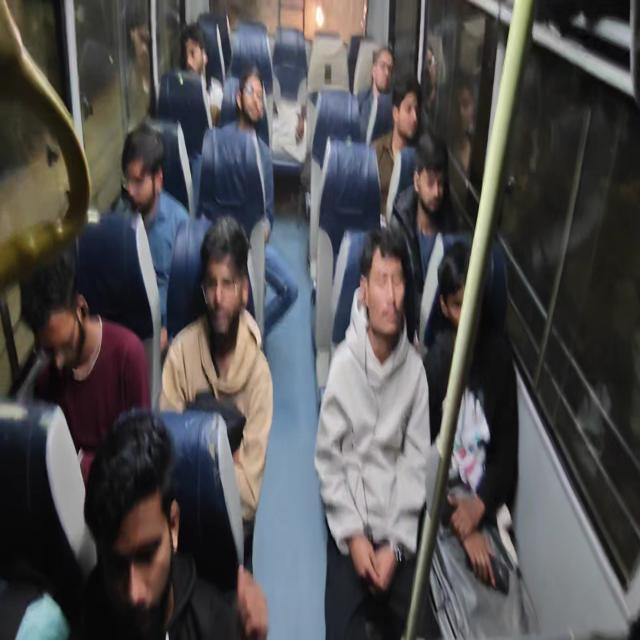person: (32, 416, 171, 640), (0, 234, 93, 450), (347, 238, 411, 382), (116, 105, 185, 236), (414, 226, 470, 379), (271, 39, 320, 183), (208, 239, 256, 367), (184, 10, 238, 91), (399, 148, 437, 248), (382, 76, 419, 169), (236, 69, 274, 152), (365, 42, 396, 103)
